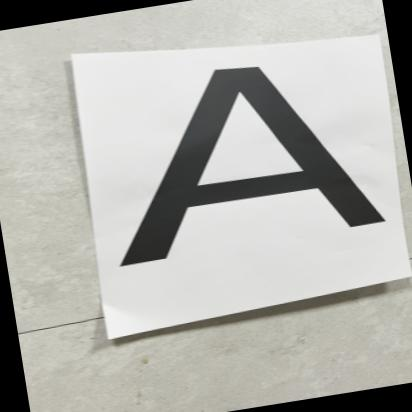seat: (96, 33, 394, 316)
